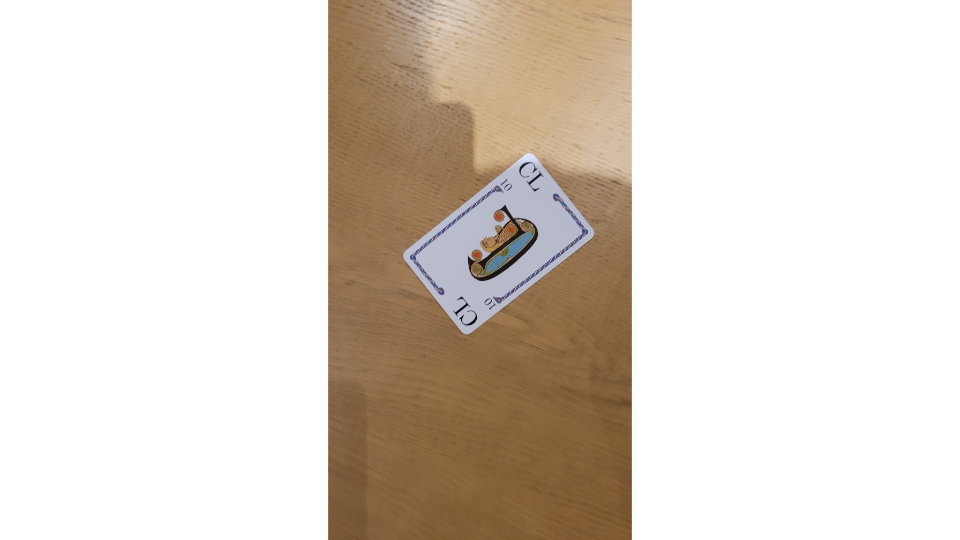CL: (399, 151, 598, 336)
